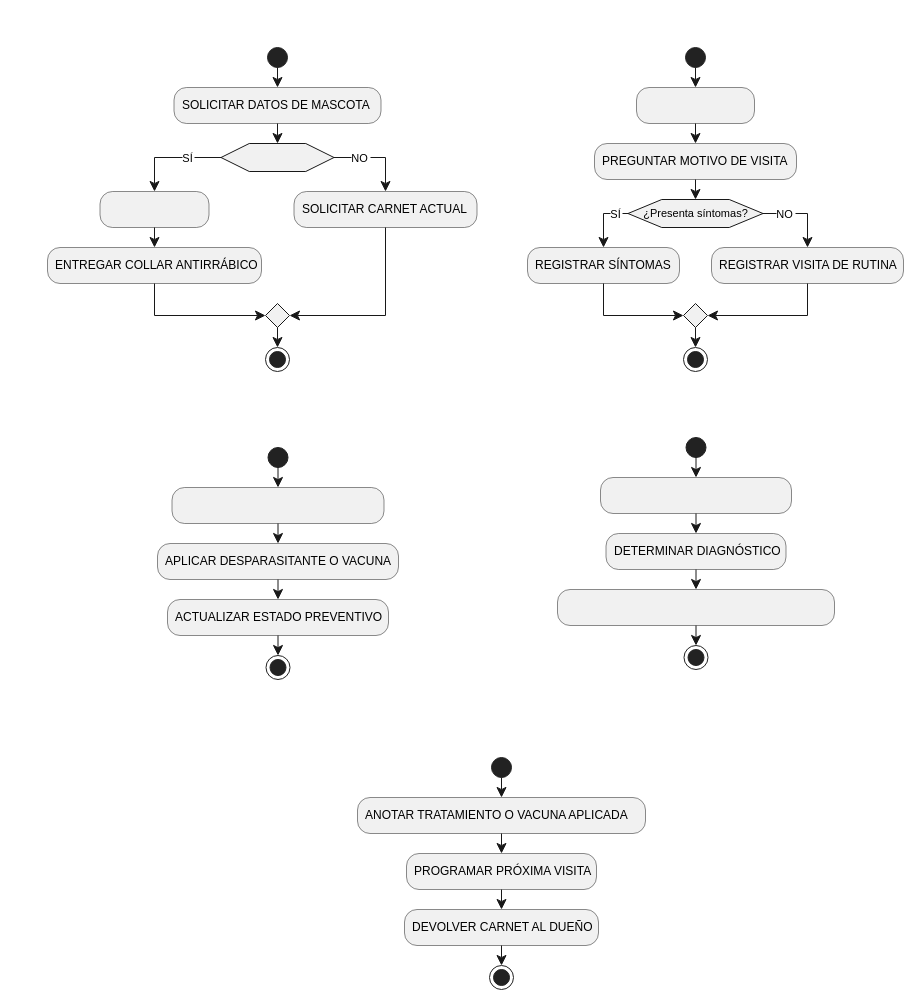
Some shapes in this 921 by 1007 pixel diagram are drawn without their labels. Here are the shapes that lost their labels. From the top down, the centre of each, then its label:
point 695,105: PESAR MASCOTA
point 277,157: ¿Es primera vez?
point 154,209: CREAR CARNET
point 277,505: REVISAR HISTORIAL DE VACUNAS
point 695,495: REALIZAR CHEQUEO CLÍNICO
point 695,607: APLICAR TRATAMIENTO (Inyección/Pastillas)
